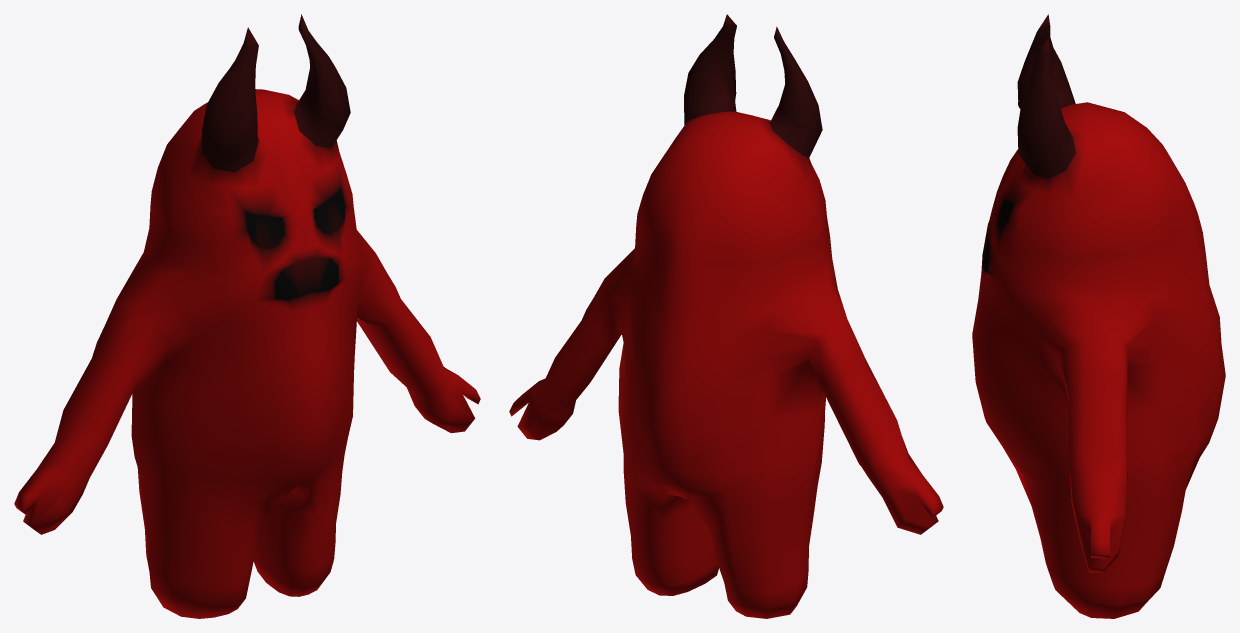
File: demonio1.fbx
3 renders of one model, left to right at view 1: azimuth 30°, elevation 25°; view 2: azimuth 150°, elevation 25°; view 3: azimuth 270°, elevation 25°, orthographic. The views are drawn at different scales.
Parts seen in each view (by area): view 1: Plane; view 2: Plane; view 3: Plane.
Part boxes in pixels (x1,y1,x2,y2): Plane: (14,14,480,618); Plane: (509,14,943,618); Plane: (972,14,1225,618).
Size of the model in its own units: 305 by 381 by 156.
